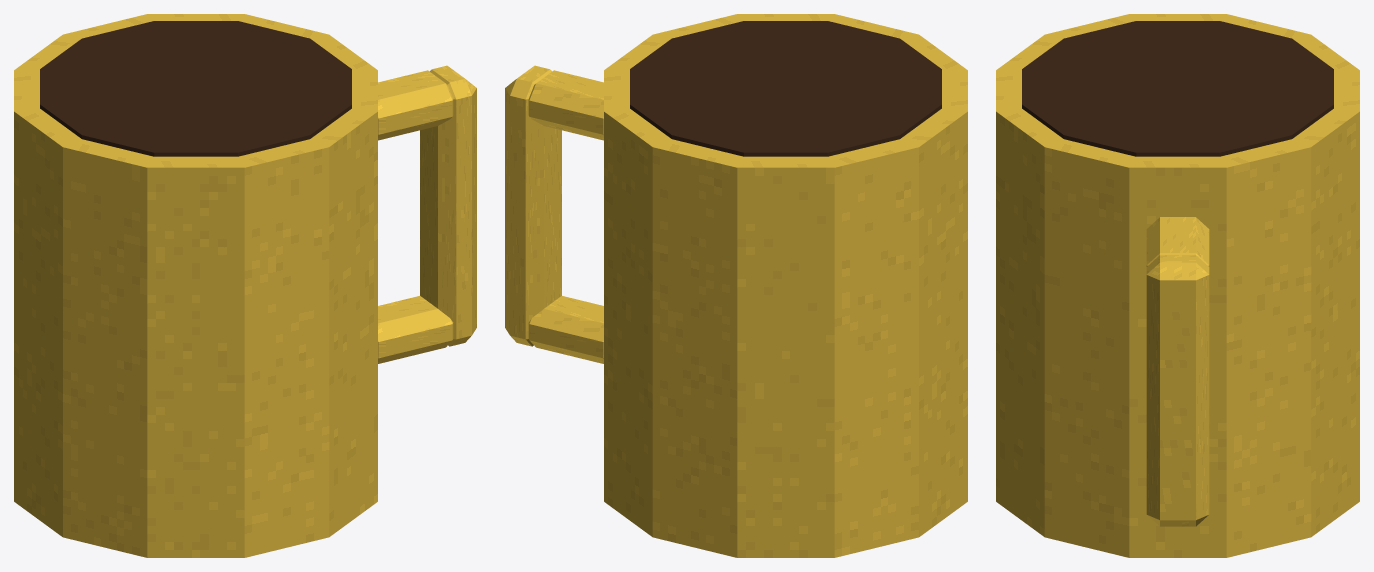
File: ceramic_mug.glb
3 renders of one model, left to right at view 1: azimuth 30°, elevation 25°; view 2: azimuth 150°, elevation 25°; view 3: azimuth 270°, elevation 25°, orthographic.
Parts seen in each view (by area): view 1: block_mug, block_coffee, block_handle2, block_handle0, block_handle1; view 2: block_mug, block_coffee, block_handle2, block_handle0, block_handle1; view 3: block_mug, block_coffee, block_handle2, block_handle0.
Boxes of the visible parts, <box> form: block_mug: <box>14,14,377,557</box>; block_coffee: <box>40,21,351,156</box>; block_handle2: <box>420,65,476,346</box>; block_handle0: <box>378,70,453,140</box>; block_handle1: <box>378,296,453,363</box>; block_mug: <box>604,14,967,557</box>; block_coffee: <box>630,21,941,156</box>; block_handle2: <box>505,65,561,346</box>; block_handle0: <box>528,70,603,140</box>; block_handle1: <box>528,296,603,363</box>; block_mug: <box>996,14,1359,557</box>; block_coffee: <box>1022,21,1333,156</box>; block_handle2: <box>1146,255,1209,526</box>; block_handle0: <box>1146,217,1209,266</box>.
Size of the model in its own units: 0.1106 by 0.097 by 0.0811.
1 material, 1 textured.
